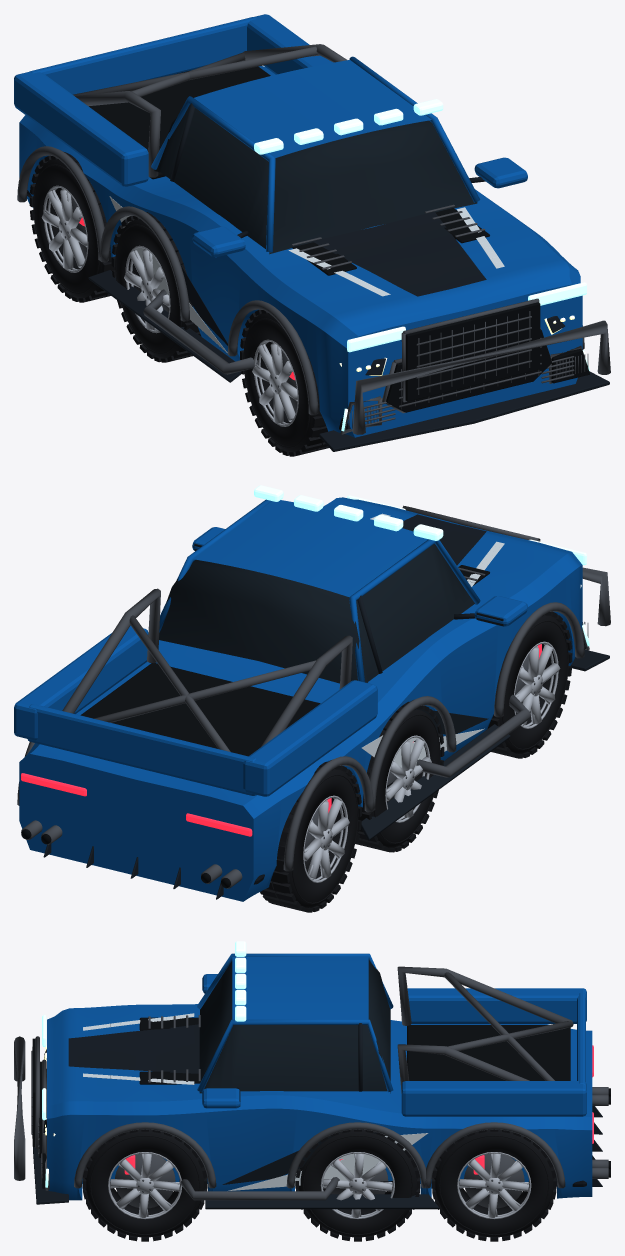
File: titan-hauler.glb
3 renders of one model, top to bottom at view 1: azimuth 30°, elevation 25°; view 2: azimuth 150°, elevation 25°; view 3: azimuth 270°, elevation 25°, orthographic. The views are drawn at different scales.
Visible parts, largest first — view 1: body, wheel_fl_spin_mesh, wheel_rl_spin_mesh, wheel_ml_spin_mesh; view 2: body, wheel_rl_spin_mesh, wheel_fl_spin_mesh, wheel_ml_spin_mesh; view 3: body, wheel_rr_spin_mesh, wheel_fr_spin_mesh, wheel_mr_spin_mesh.
Boxes of the visible parts, <box> form: body: <box>14,14,610,451</box>; wheel_fl_spin_mesh: <box>240,309,328,456</box>; wheel_rl_spin_mesh: <box>29,152,115,302</box>; wheel_ml_spin_mesh: <box>111,212,201,362</box>; body: <box>14,485,610,901</box>; wheel_rl_spin_mesh: <box>260,762,361,912</box>; wheel_fl_spin_mesh: <box>487,611,572,758</box>; wheel_ml_spin_mesh: <box>357,701,444,852</box>; body: <box>14,941,610,1209</box>; wheel_rr_spin_mesh: <box>431,1129,556,1241</box>; wheel_fr_spin_mesh: <box>82,1129,207,1241</box>; wheel_mr_spin_mesh: <box>295,1129,420,1241</box>.
Bounding box in the file's own units: 3.45 × 2.65 × 6.79.
